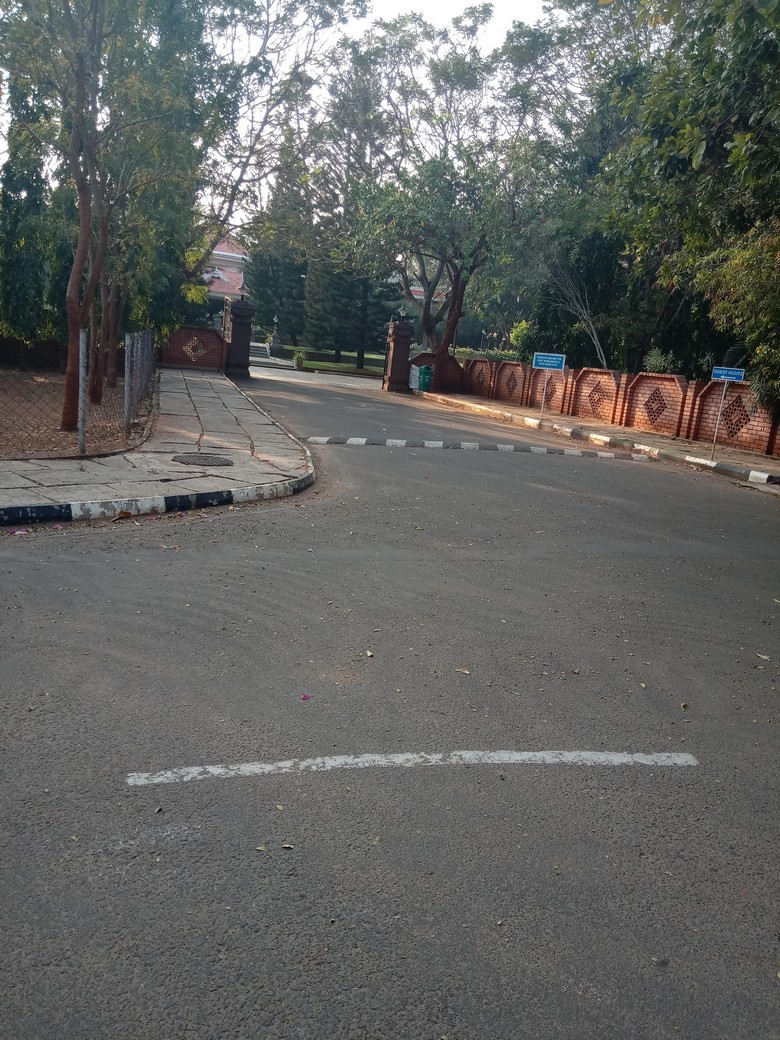bump: (303, 432, 664, 464)
